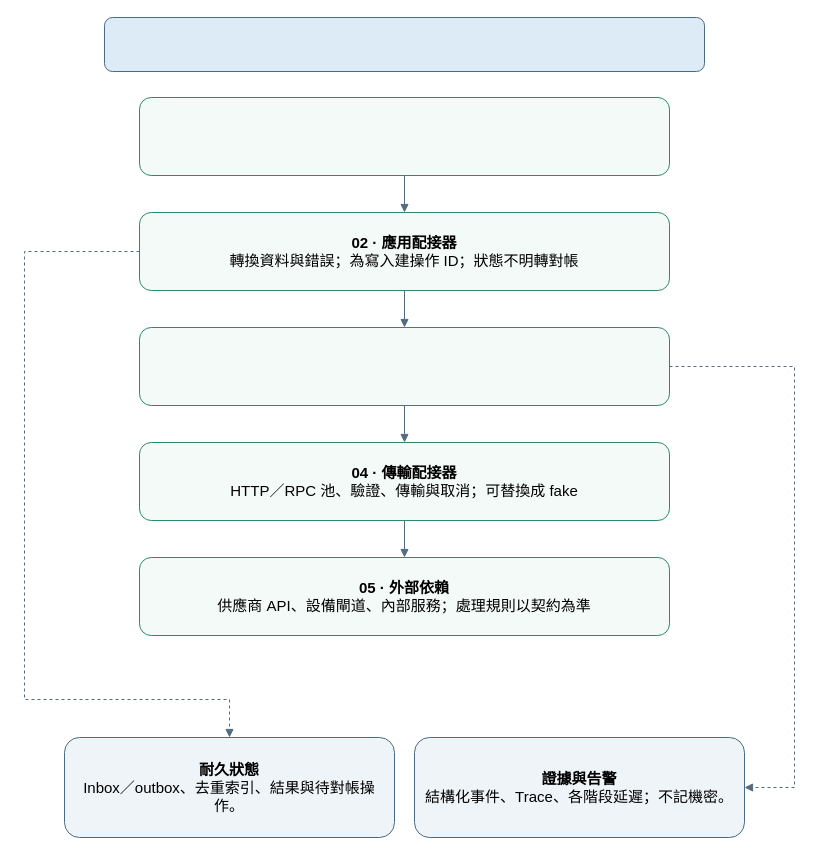
This 820x855 diagram has some shape labels left out. Here are the shapes that lost their labels. From the top down, the centre of each, then its label:
At (404,44): "架構：外部整合責任邊界".
At (404,136): "01 · 業務／入口 讀取快照、執行作業、接收事件；定義新鮮度和完成條件".
At (404,366): "03 · 韌性策略 總期限；令牌、佇列、併發；斷路、挑選重試".
